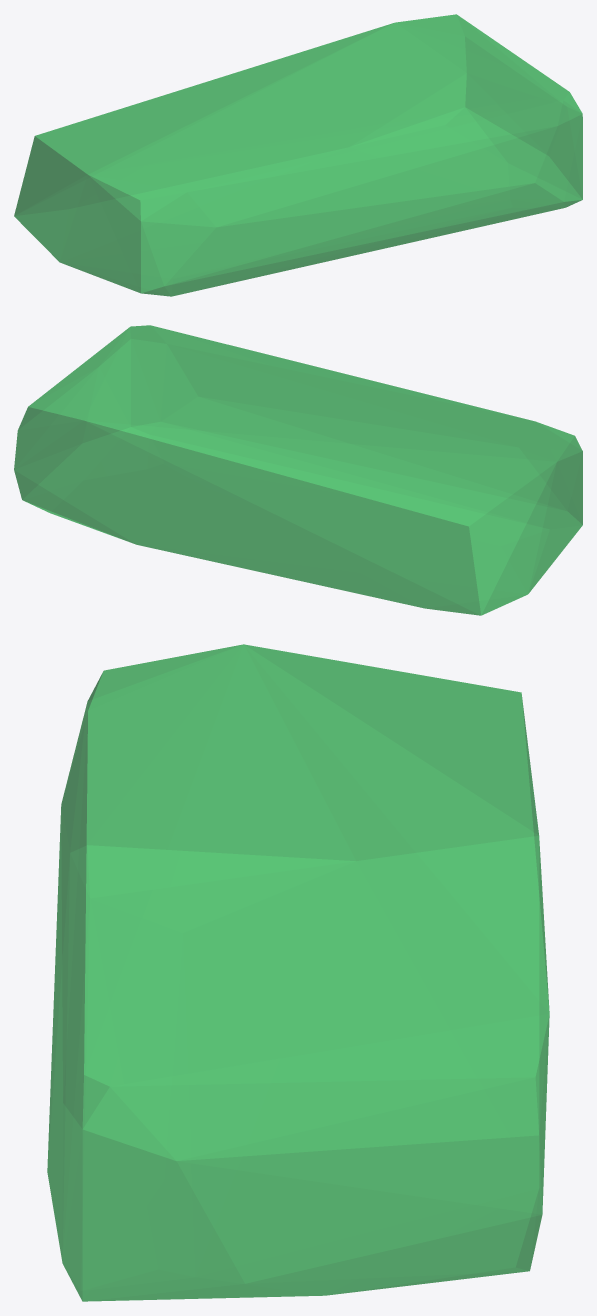
3 views of the same model, one above another, from view 1: azimuth 30°, elevation 25°; view 2: azimuth 150°, elevation 25°; view 3: azimuth 270°, elevation 25° (orthographic). The views are drawn at different scales.
Visible parts, largest first — view 1: Shape_IndexedFaceSet.001_Shape_IndexedFaceSet.12842; view 2: Shape_IndexedFaceSet.001_Shape_IndexedFaceSet.12842; view 3: Shape_IndexedFaceSet.001_Shape_IndexedFaceSet.12842.
Part boxes in pixels (x1=…): Shape_IndexedFaceSet.001_Shape_IndexedFaceSet.12842: x1=14, y1=14, x2=582, y2=296; Shape_IndexedFaceSet.001_Shape_IndexedFaceSet.12842: x1=14, y1=325, x2=582, y2=615; Shape_IndexedFaceSet.001_Shape_IndexedFaceSet.12842: x1=47, y1=644, x2=549, y2=1301.
Bounding box in the file's own units: 0.4936 × 0.121 × 0.2322.
